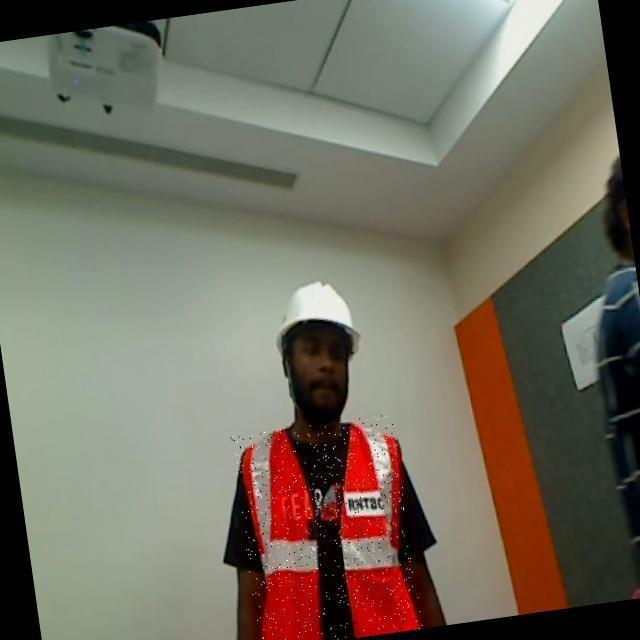helmet: (265, 269, 371, 372)
vest: (230, 413, 423, 640)
